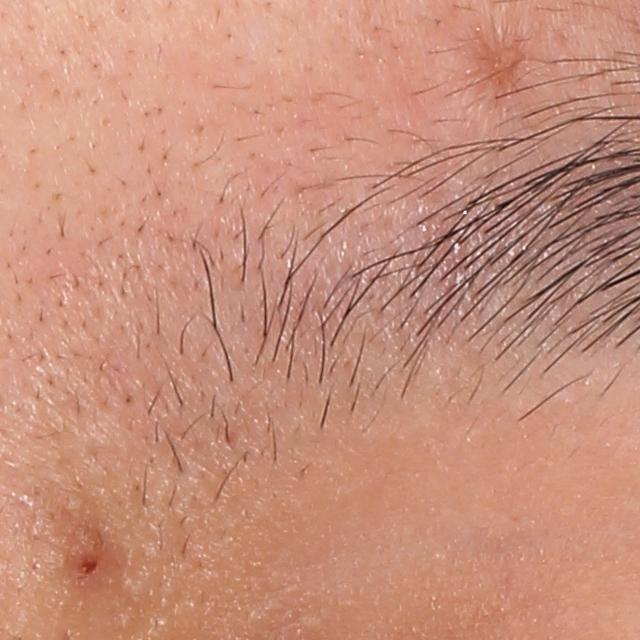papule: (64, 533, 119, 584)
